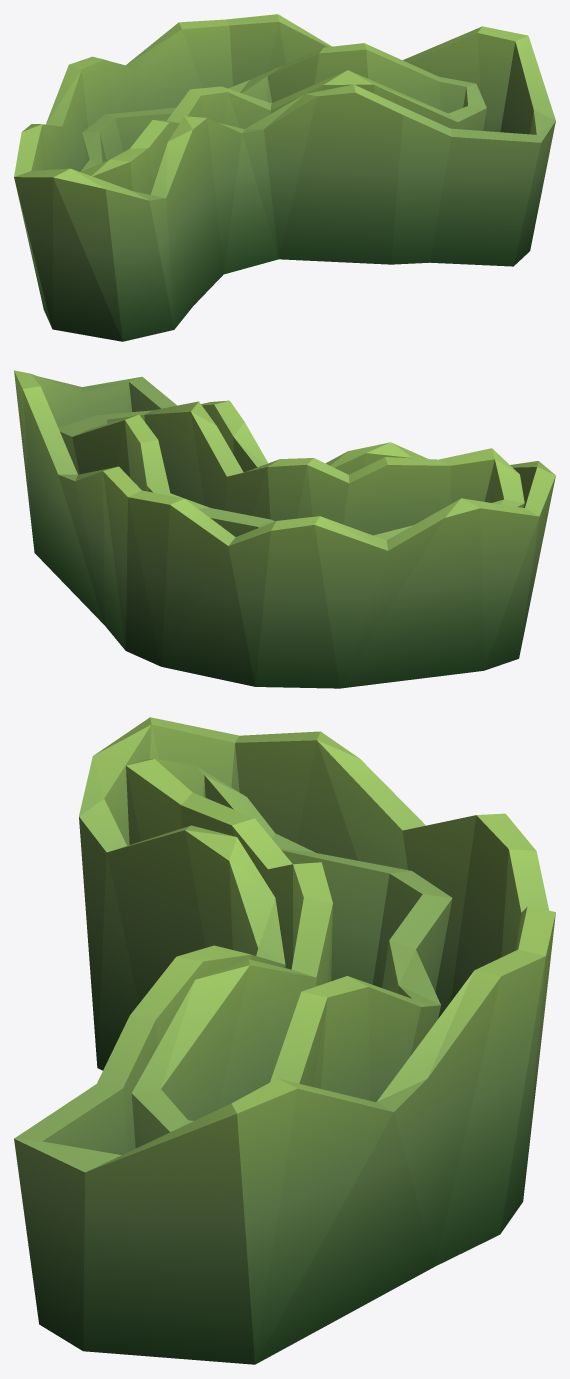
Rendered from SM_Coral_24.fbx.
The picture shows the model from 3 angles, top to bottom: view 1: azimuth 30°, elevation 25°; view 2: azimuth 150°, elevation 25°; view 3: azimuth 270°, elevation 25°; orthographic projection. The views are drawn at different scales.
Visible parts, largest first — view 1: Coral_24; view 2: Coral_24; view 3: Coral_24.
Part boxes in pixels (x1,y1,x2,y2): Coral_24: (14, 14, 555, 341); Coral_24: (14, 370, 555, 688); Coral_24: (14, 717, 555, 1364).
Size of the model in its own units: 362 by 118 by 205.
